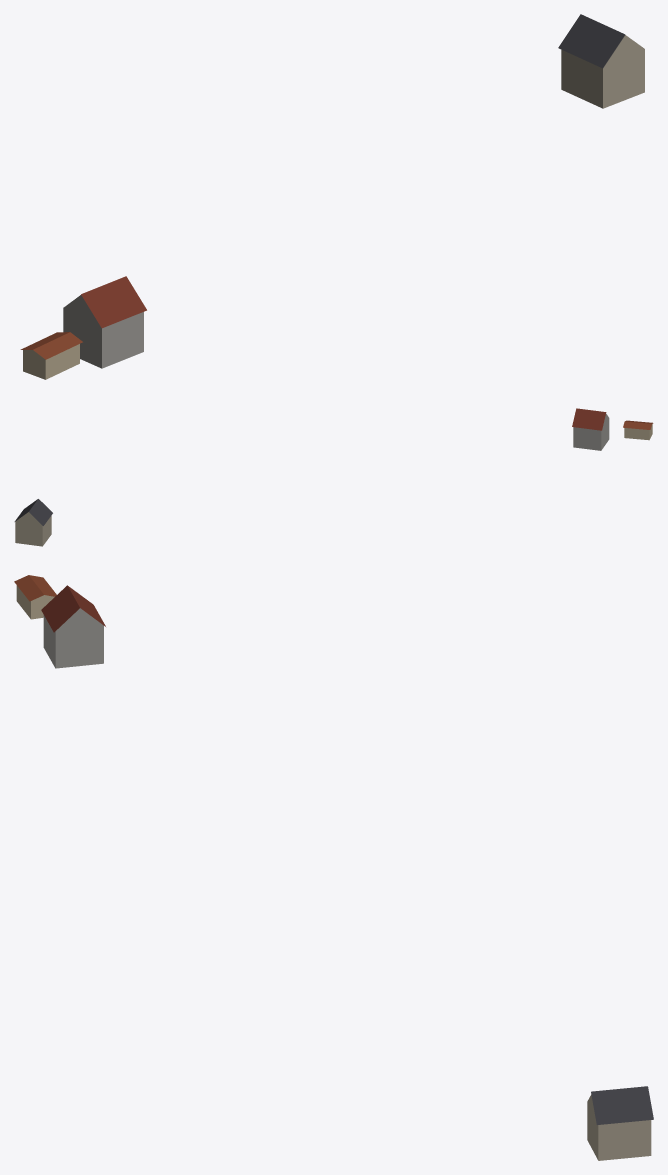
3 views of the same model, one above another, from view 1: azimuth 30°, elevation 25°; view 2: azimuth 150°, elevation 25°; view 3: azimuth 270°, elevation 25° (orthographic). The views are drawn at different scales.
Visible parts, largest first — view 1: buildings; view 2: buildings; view 3: buildings.
Boxes of the visible parts, x1,y1,x2,y2 form: buildings: (20,14,644,379); buildings: (14,408,653,546); buildings: (14,575,653,1160).
Size of the model in its own units: 138 by 31.99 by 91.73.
